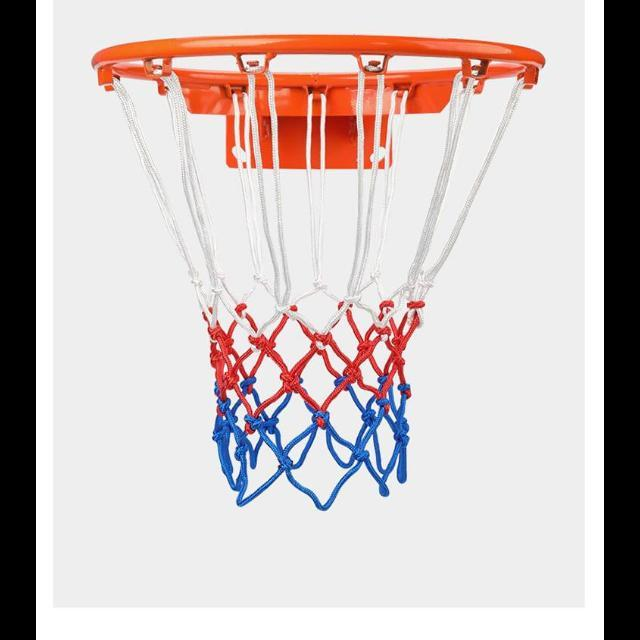rim: (90, 34, 548, 510)
